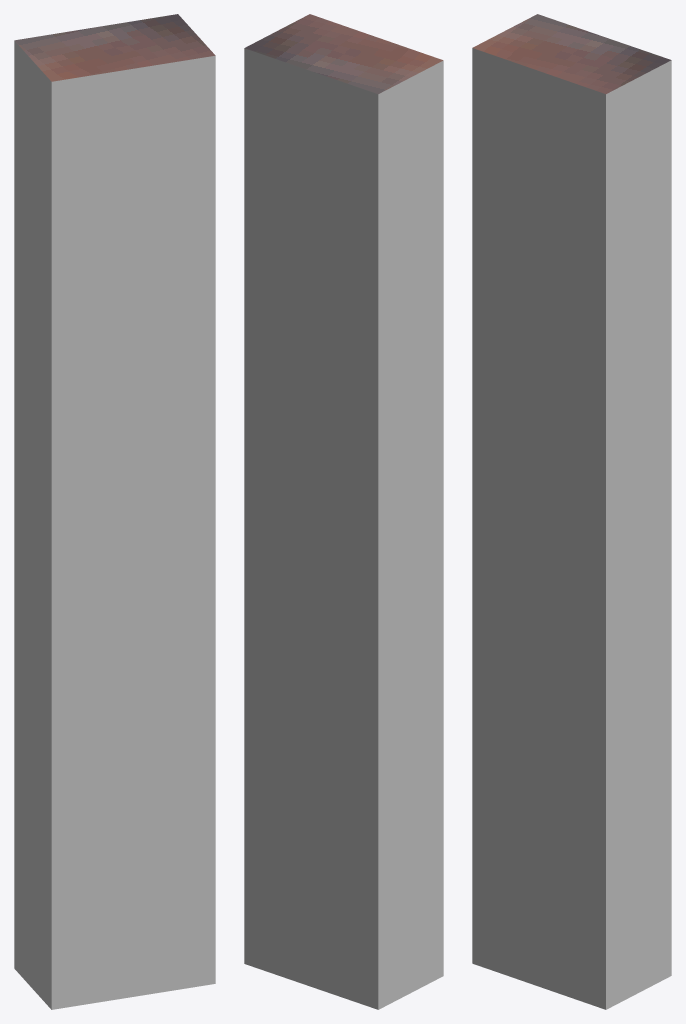
The model's file is DEBW_0010007THXx.gltf.
3 renders of one model, left to right at view 1: azimuth 30°, elevation 25°; view 2: azimuth 150°, elevation 25°; view 3: azimuth 330°, elevation 25°, orthographic.
Visible parts, largest first — view 1: Z_UP; view 2: Z_UP; view 3: Z_UP.
Boxes of the visible parts, x1,y1,x2,y2 form: Z_UP: (14, 14, 215, 1009); Z_UP: (244, 14, 443, 1009); Z_UP: (472, 14, 671, 1009).
Size of the model in its own units: 2.73 by 14.73 by 1.9.
Materials: 2 (1 with a texture image).
